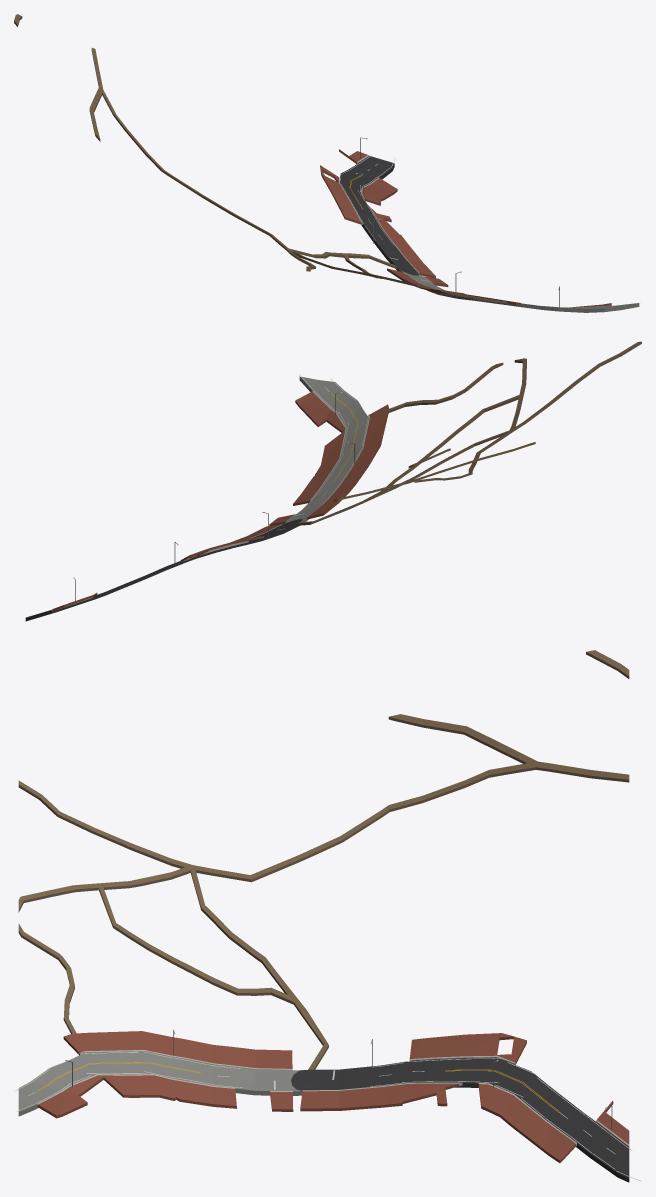
3 views of the same model, one above another, from view 1: azimuth 30°, elevation 25°; view 2: azimuth 150°, elevation 25°; view 3: azimuth 270°, elevation 25° (orthographic). The views are drawn at different scales.
Size of the model in its own units: 132 by 79.64 by 150.
